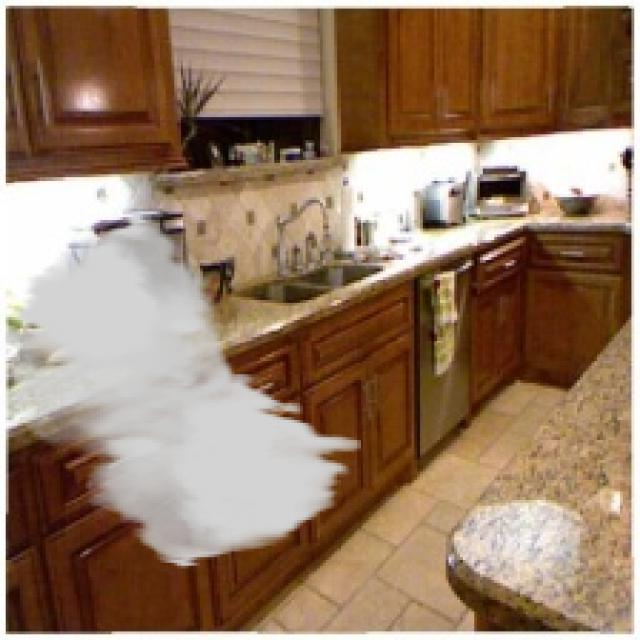smoke: (3, 212, 360, 568)
